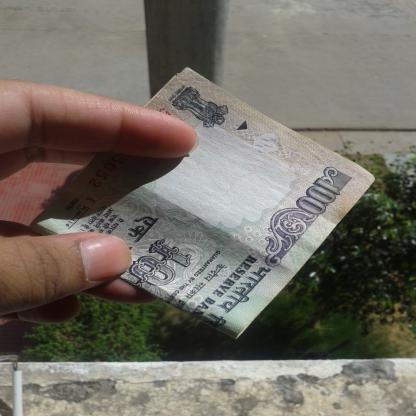Old100Front: (28, 66, 376, 340)
